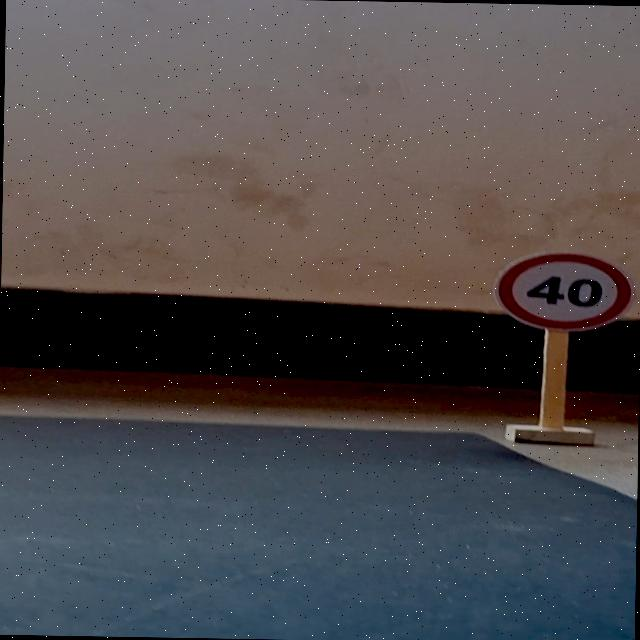Speed40: (488, 246, 636, 332)
